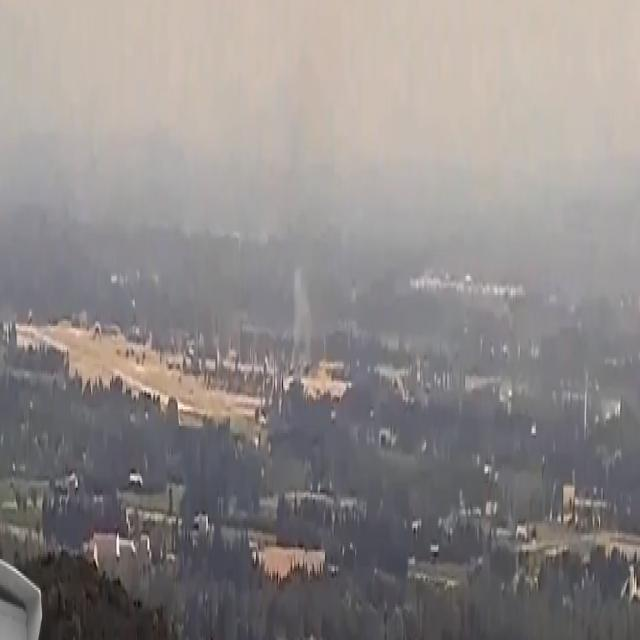Smoke: (289, 267, 313, 378)
